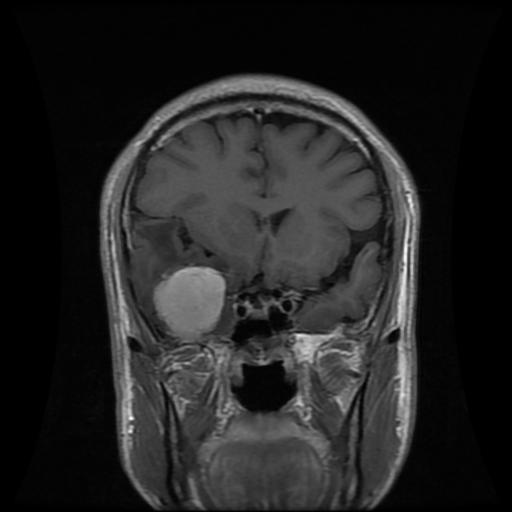Menigiomia_tumour: (154, 266, 224, 338)
